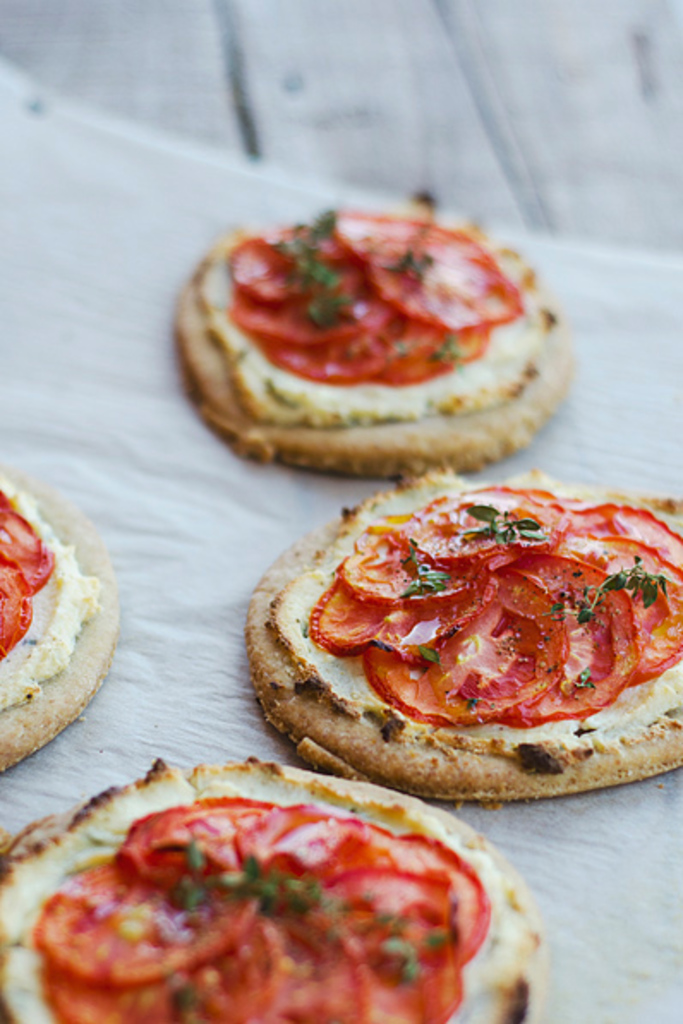Tomato: (30, 791, 490, 1022), (307, 482, 681, 725), (226, 211, 521, 384), (0, 480, 56, 657)
